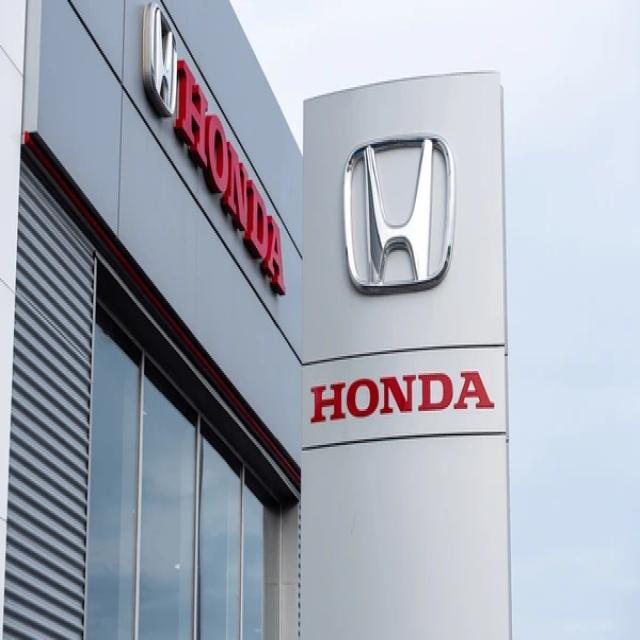honda: (338, 128, 457, 296)
